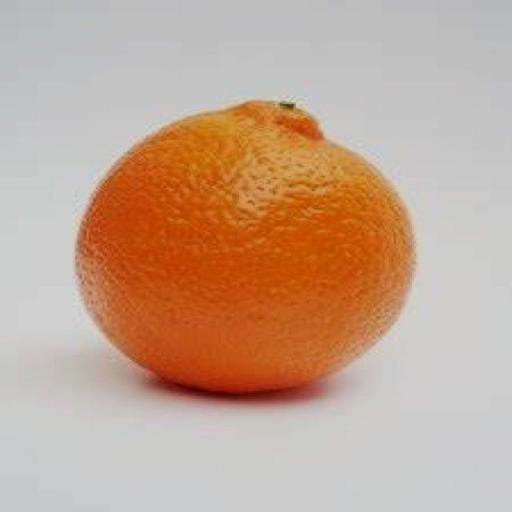fruit: (76, 102, 413, 392)
